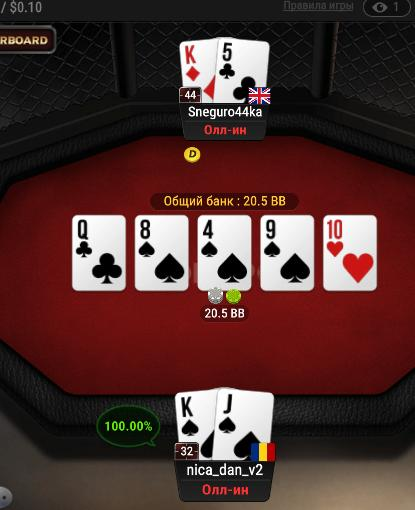10h: (324, 216, 377, 289)
4s: (198, 214, 251, 289)
5c: (216, 37, 269, 102)
8s: (136, 216, 187, 290)
9s: (261, 216, 314, 288)
Js: (216, 388, 273, 462)
Kd: (178, 40, 217, 103)
Ks: (174, 390, 216, 461)
Qc: (72, 217, 125, 288)
